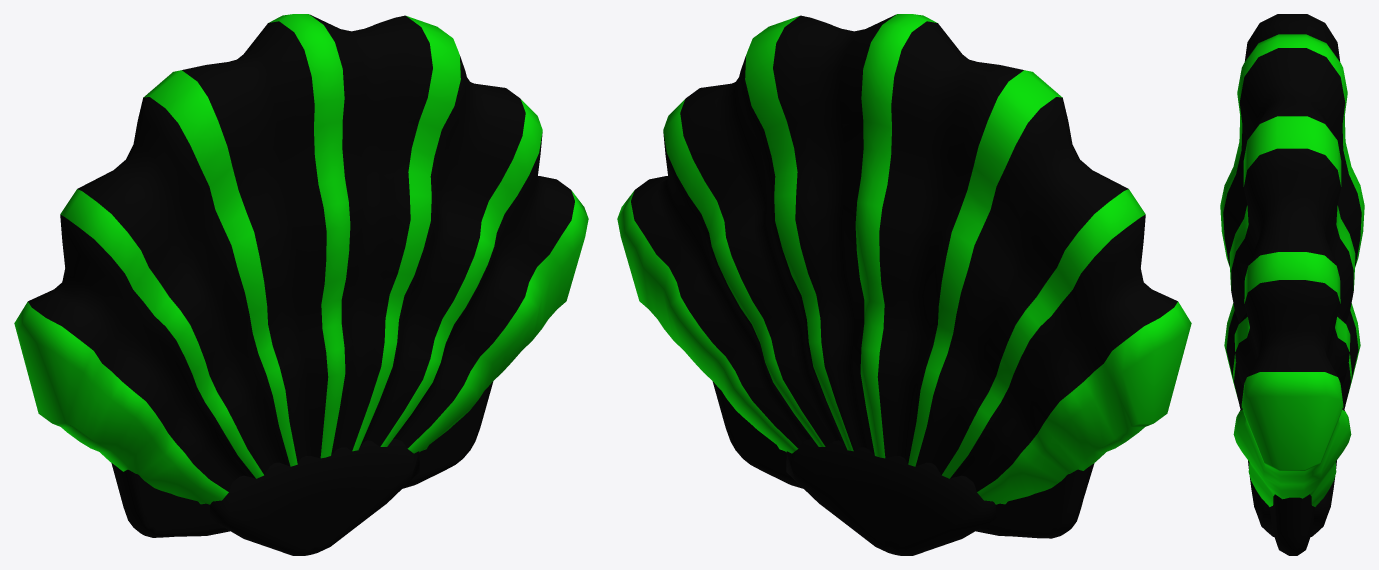
Rendered from ClamShell.fbx.
The picture shows the model from 3 angles, left to right: view 1: azimuth 30°, elevation 25°; view 2: azimuth 150°, elevation 25°; view 3: azimuth 270°, elevation 25°; orthographic projection. The views are drawn at different scales.
Parts seen in each view (by area): view 1: ClamShell; view 2: ClamShell; view 3: ClamShell.
Part boxes in pixels (box(x1,y1,x2,y2)): ClamShell: box(14, 14, 588, 555); ClamShell: box(617, 14, 1191, 555); ClamShell: box(1220, 14, 1364, 555).
Bounding box in the file's own units: 130 × 120 × 31.56.
